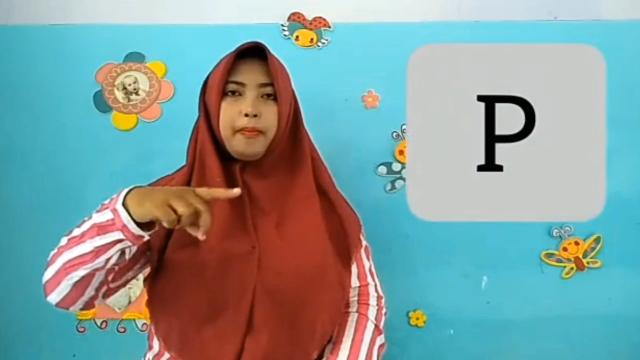P: (126, 176, 244, 244)
